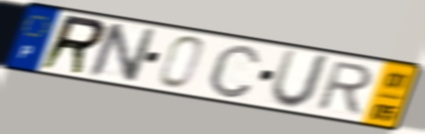0: (155, 34, 209, 91)
C: (205, 42, 264, 100)
N: (86, 20, 160, 84)
R: (35, 12, 109, 77), (312, 59, 377, 117)
U: (267, 46, 334, 111)
